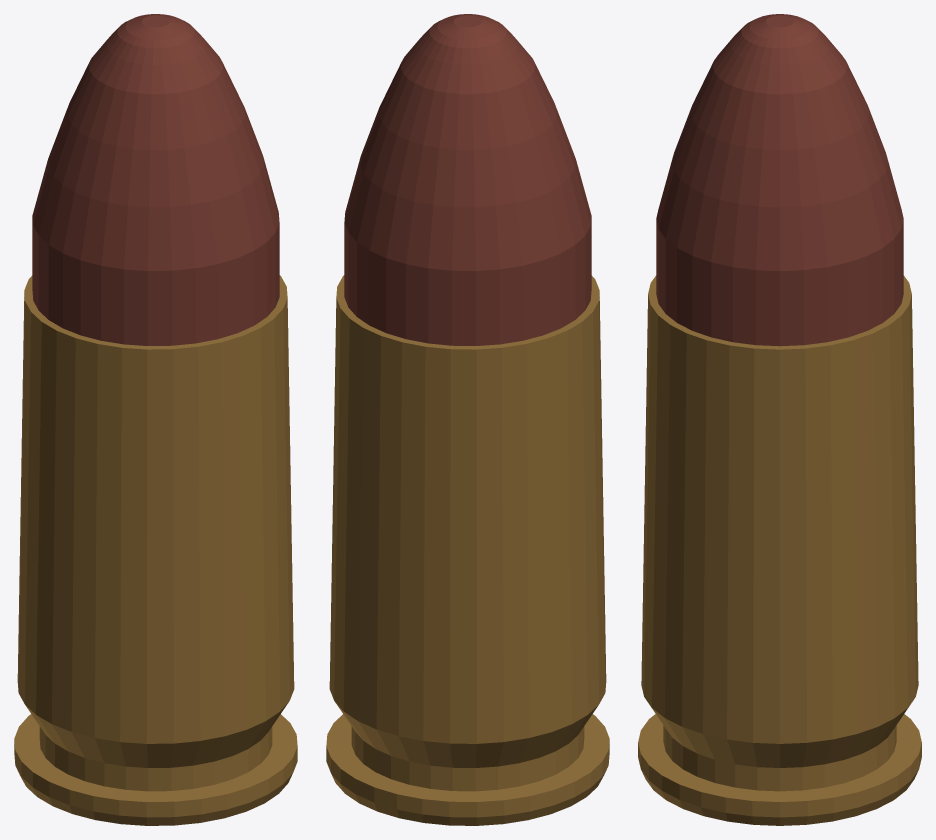
The model's file is Bullet_Tec_9.fbx.
3 views of the same model, side by side, from view 1: azimuth 30°, elevation 25°; view 2: azimuth 150°, elevation 25°; view 3: azimuth 270°, elevation 25° (orthographic).
Visible parts, largest first — view 1: Cylinder; view 2: Cylinder; view 3: Cylinder.
Boxes of the visible parts, x1,y1,x2,y2 form: Cylinder: (14, 14, 297, 825); Cylinder: (326, 14, 609, 825); Cylinder: (638, 14, 921, 825).
Size of the model in its own units: 193 by 563 by 193.
